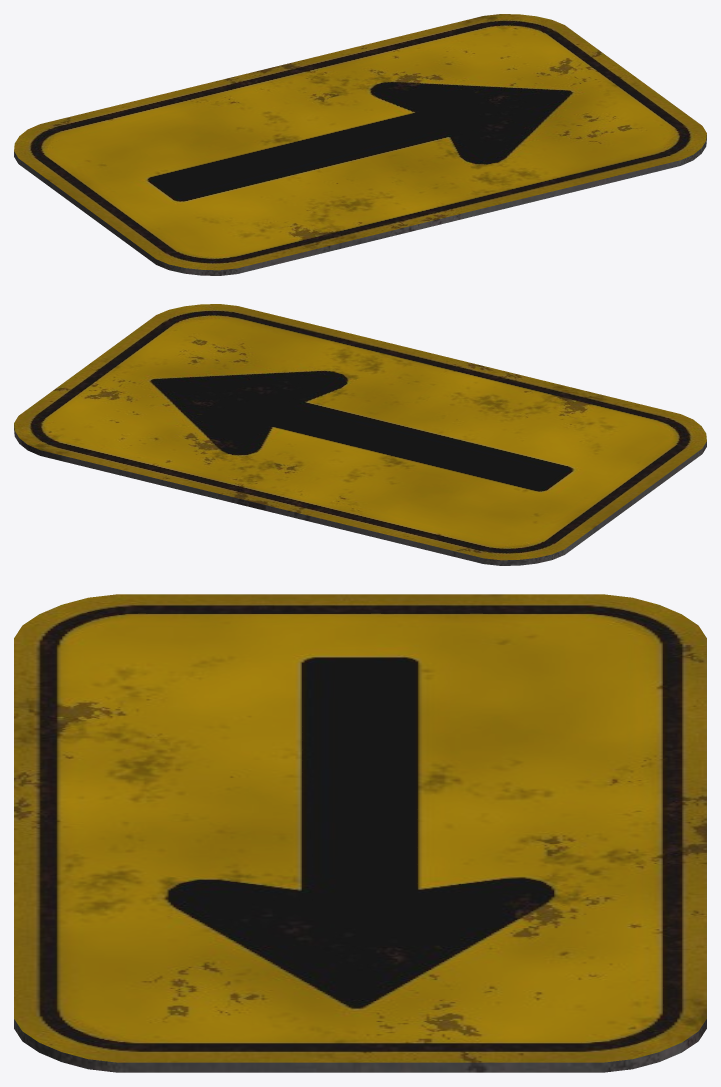
The model's file is Sign_Arrow.fbx.
3 renders of one model, top to bottom at view 1: azimuth 30°, elevation 25°; view 2: azimuth 150°, elevation 25°; view 3: azimuth 270°, elevation 25°, orthographic. The views are drawn at different scales.
Visible parts, largest first — view 1: Sign_Arrow; view 2: Sign_Arrow; view 3: Sign_Arrow.
Part boxes in pixels (<box>): Sign_Arrow: <box>14,14,706,275</box>; Sign_Arrow: <box>14,304,706,565</box>; Sign_Arrow: <box>14,594,706,1072</box>.
Size of the model in its own units: 80 by 0.8 by 50.
